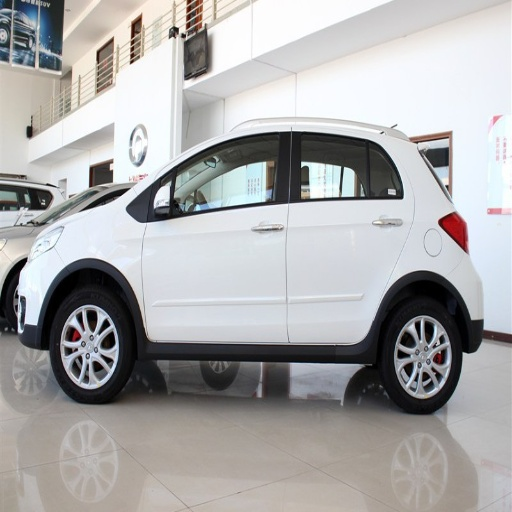back_left_door: (287, 126, 414, 342)
front_left_door: (142, 126, 291, 338)
